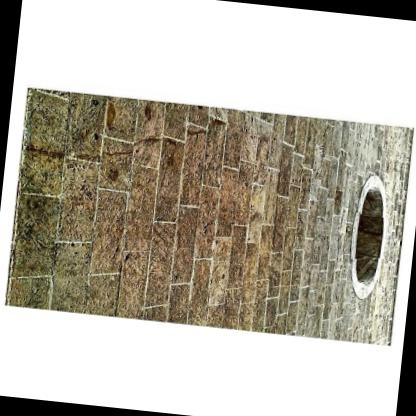manholes: (336, 168, 400, 309)
